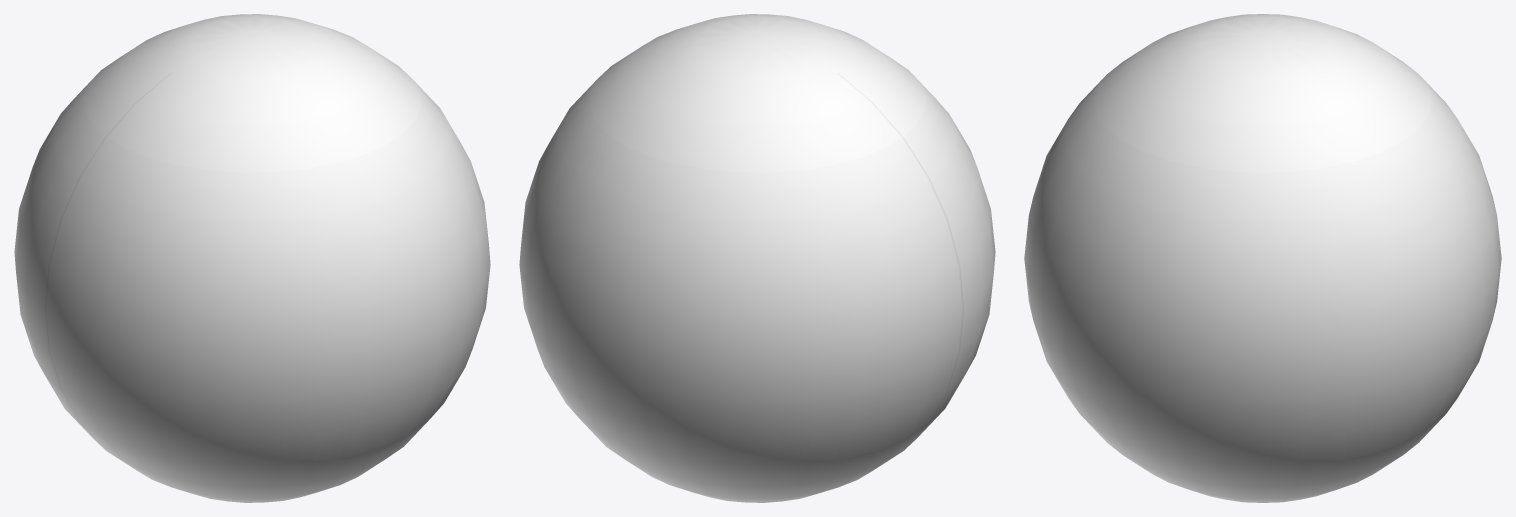
Rendered from White Ball.fbx.
The picture shows the model from 3 angles, left to right: view 1: azimuth 30°, elevation 25°; view 2: azimuth 150°, elevation 25°; view 3: azimuth 270°, elevation 25°; orthographic projection.
Visible parts, largest first — view 1: White Ball; view 2: White Ball; view 3: White Ball.
Part boxes in pixels (x1,y1,x2,y2): White Ball: (14, 14, 490, 502); White Ball: (519, 14, 995, 502); White Ball: (1024, 14, 1501, 502).
Size of the model in its own units: 12.66 by 13.1 by 12.66.
